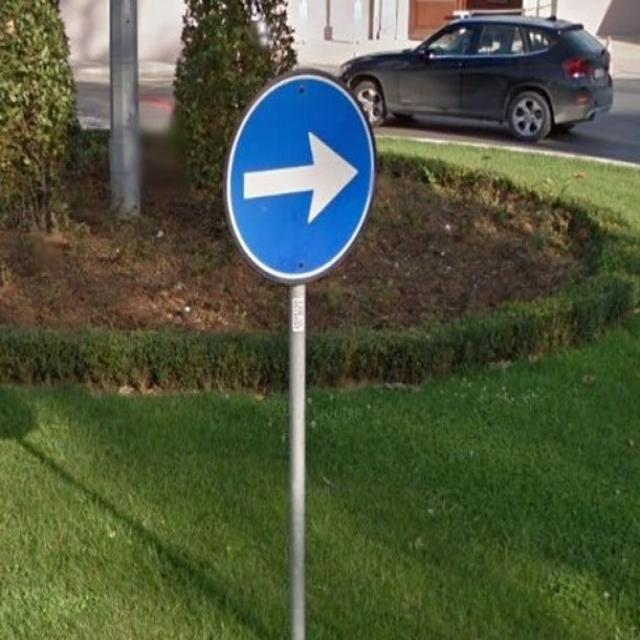Turn Right: (220, 75, 381, 289)
